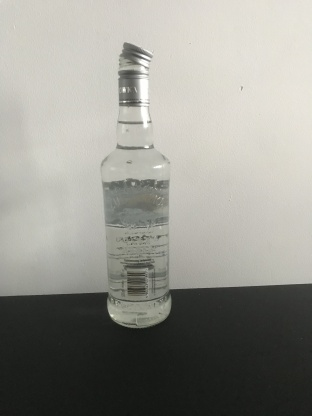nakretka: (116, 39, 154, 108)
